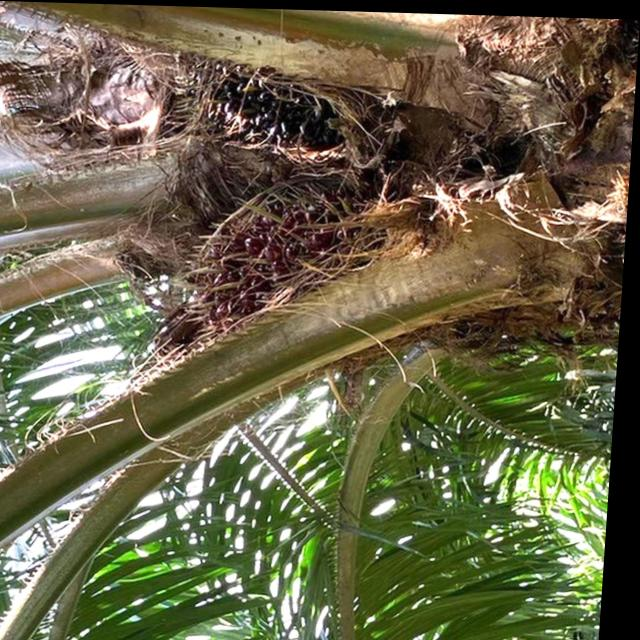ripe: (199, 207, 347, 330)
